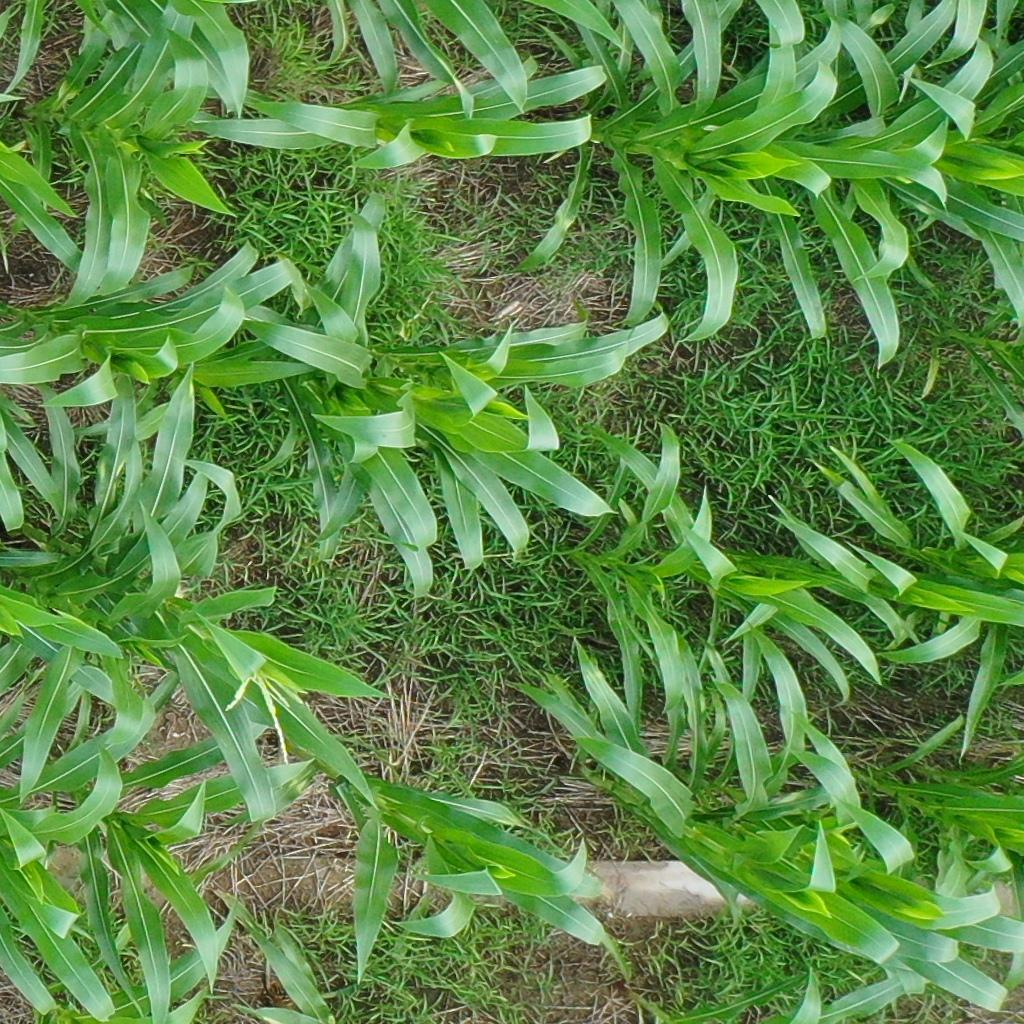Tassel: (221, 669, 308, 766)
